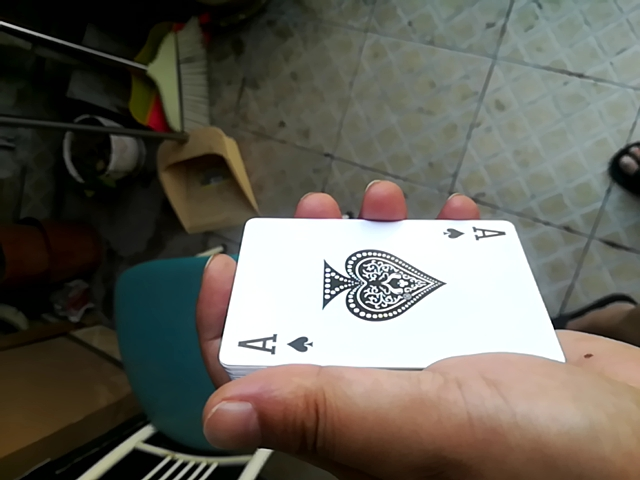ht a: (218, 200, 585, 380)
